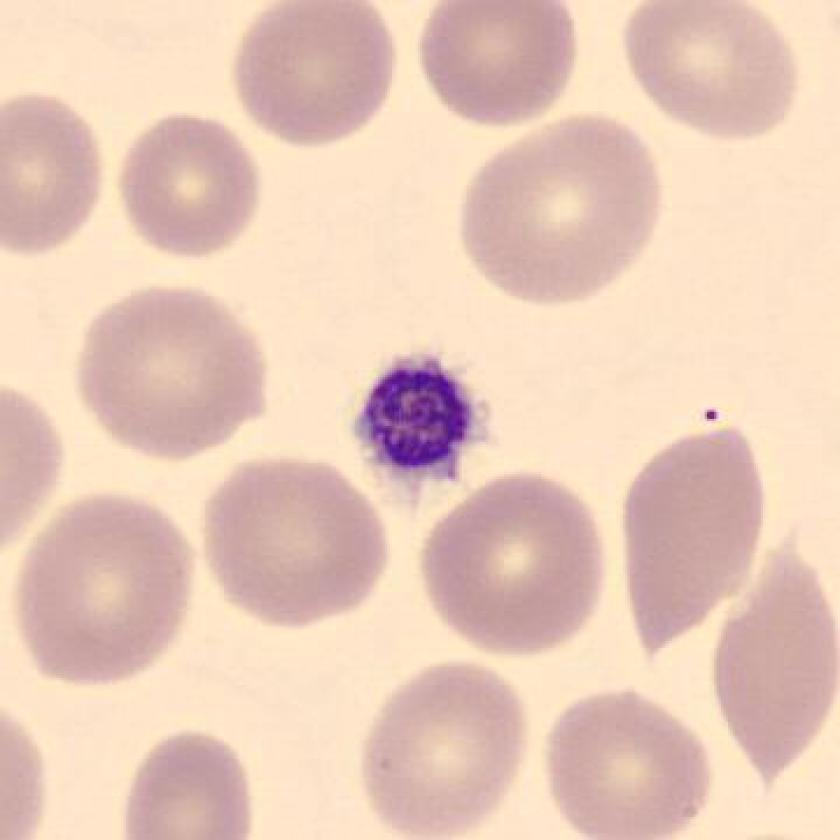platelets: (342, 341, 505, 515)
